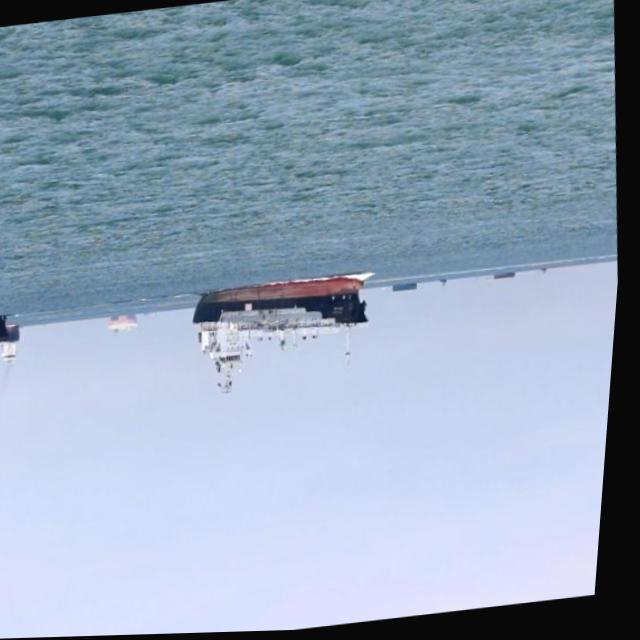ship2: (196, 275, 374, 395)
